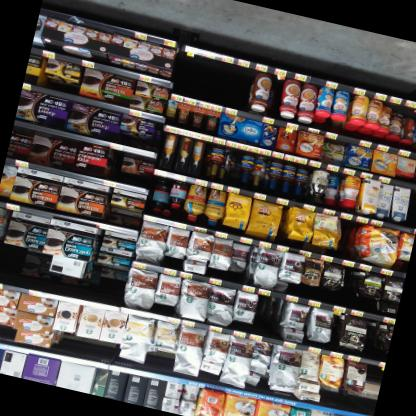empty_space: (251, 292, 274, 334), (210, 59, 233, 98), (174, 50, 197, 88), (193, 55, 216, 93), (229, 64, 251, 102), (365, 363, 384, 389), (406, 189, 416, 225)
